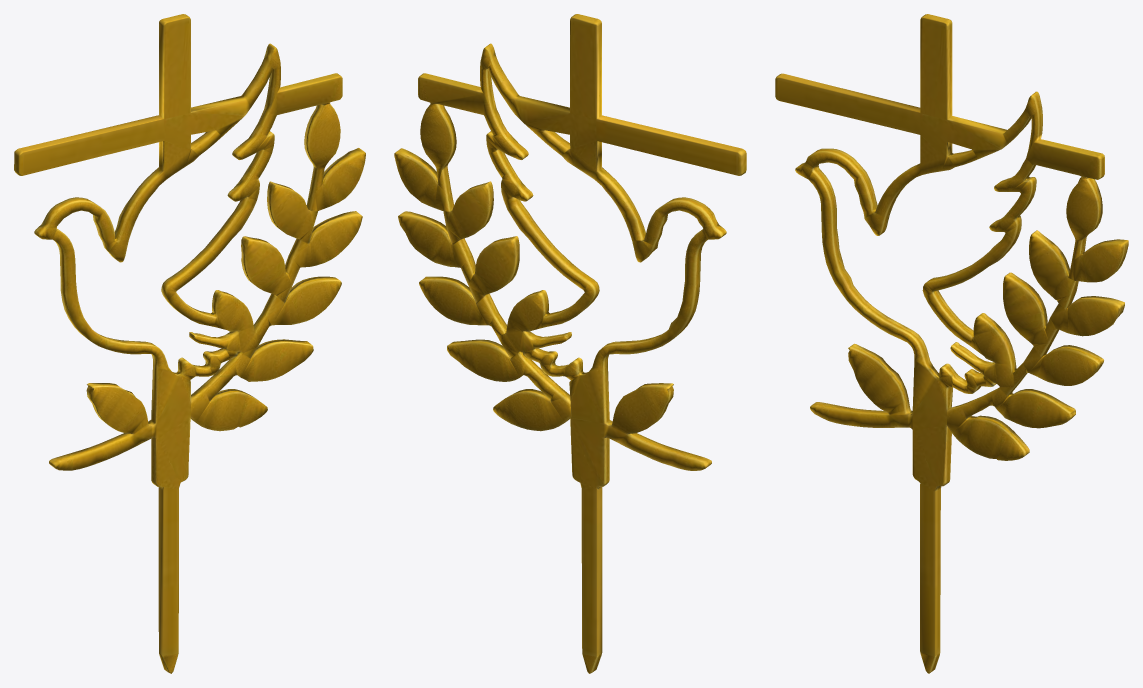
3 renders of one model, left to right at view 1: azimuth 30°, elevation 25°; view 2: azimuth 150°, elevation 25°; view 3: azimuth 330°, elevation 25°, orthographic.
Size of the model in its own units: 0.5293 by 0.9517 by 0.0176.
Materials: 1 (1 with a texture image).
